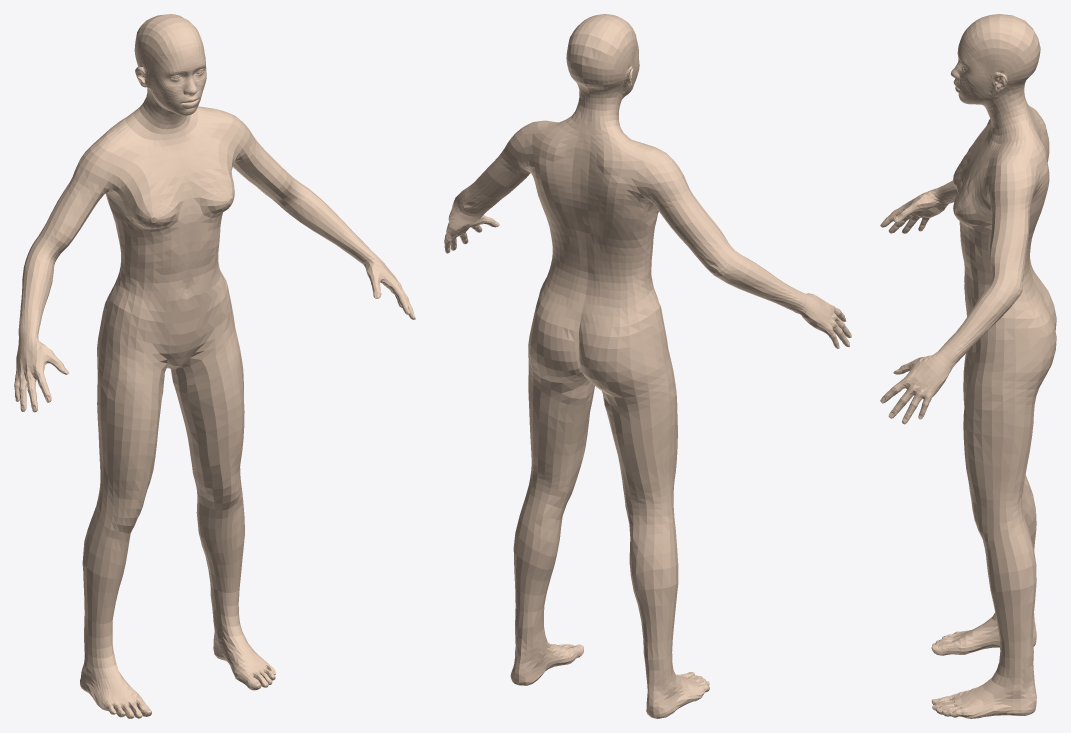
File: female-young-fit-strong.glb
3 renders of one model, left to right at view 1: azimuth 30°, elevation 25°; view 2: azimuth 150°, elevation 25°; view 3: azimuth 270°, elevation 25°, orthographic.
Visible parts, largest first — view 1: world; view 2: world; view 3: world.
Part boxes in pixels (x1,y1,x2,y2): world: (14,14,415,718); world: (444,14,851,718); world: (880,14,1056,718).
Size of the model in its own units: 1.09 by 1.76 by 0.4225.
